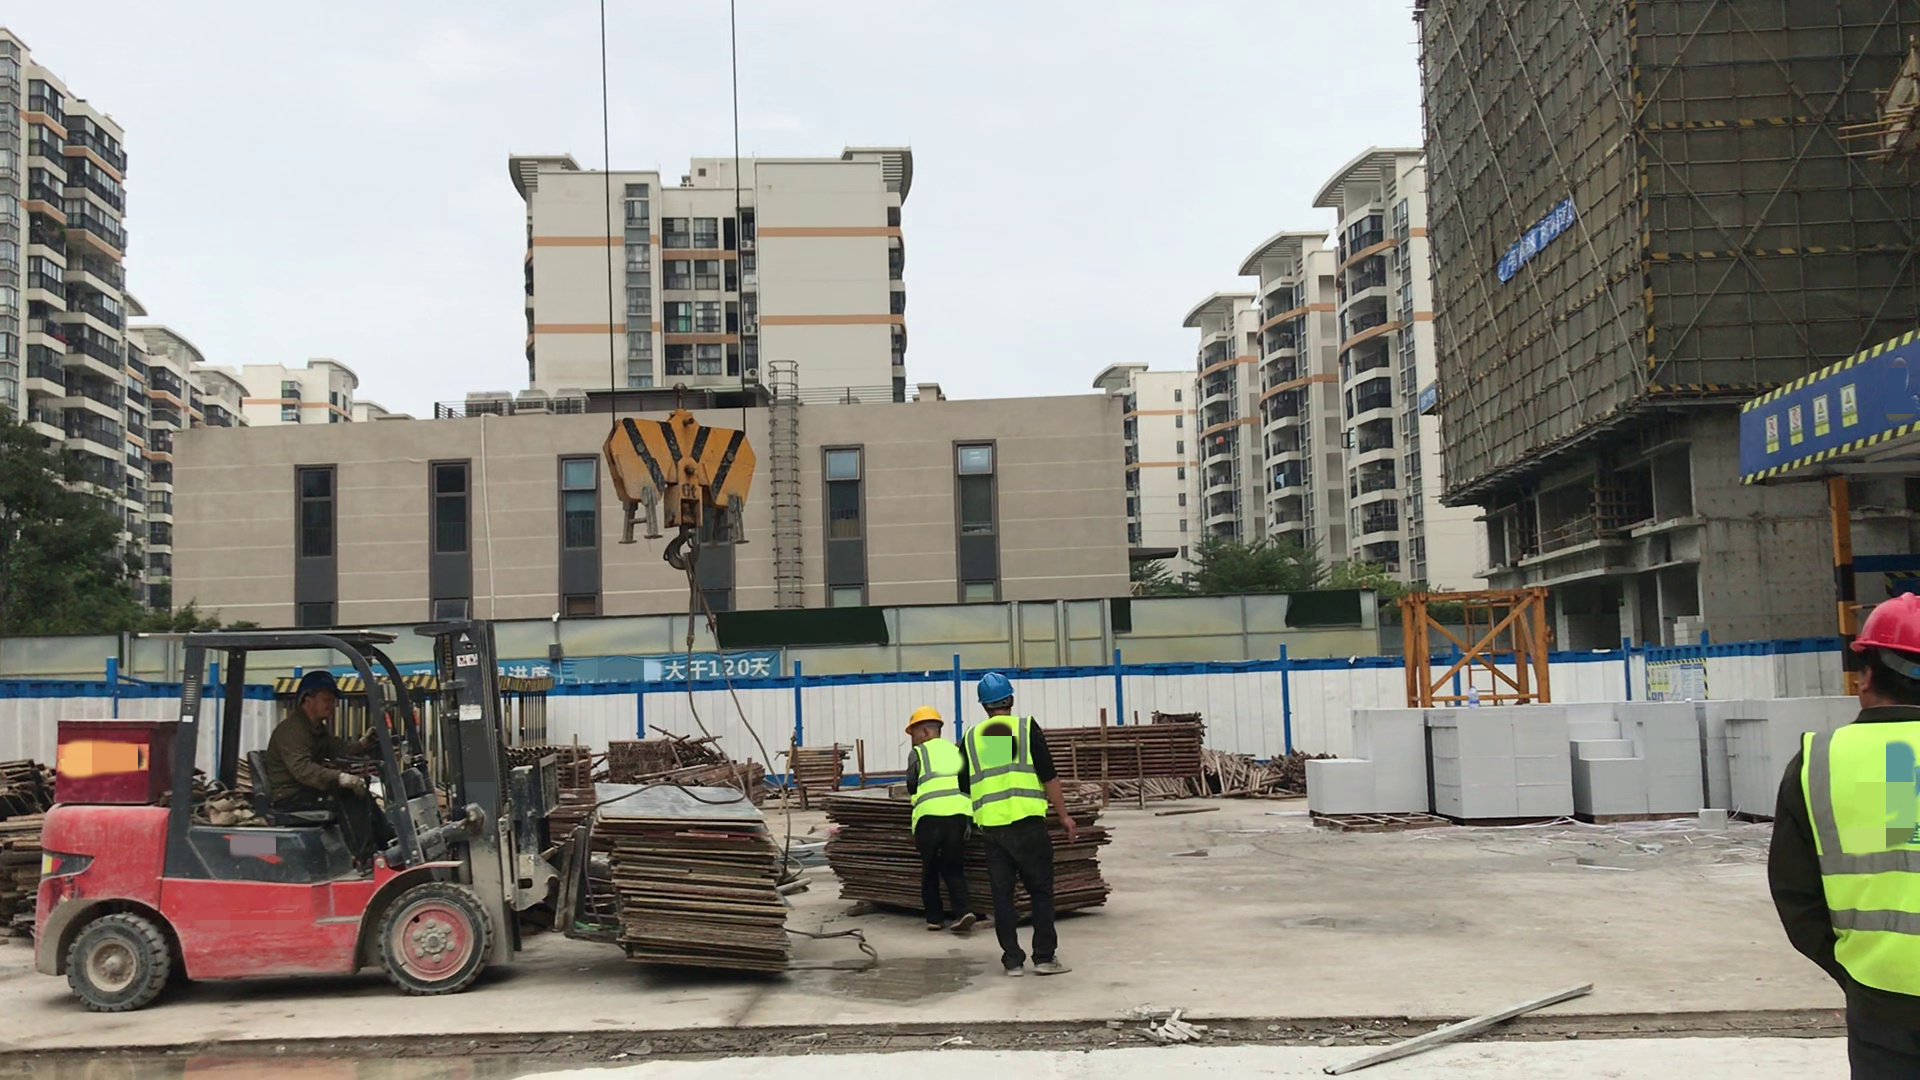board: (798, 759, 1135, 951), (577, 765, 811, 992), (2, 747, 84, 955)
brick: (1292, 681, 1877, 849)
helmet: (1839, 566, 1920, 662), (963, 662, 1024, 716), (290, 661, 347, 700), (896, 706, 950, 742)
hook: (594, 380, 804, 605)
person: (1765, 569, 1920, 1065), (959, 653, 1098, 985), (254, 653, 428, 873), (890, 695, 982, 960)
scaffold: (593, 719, 855, 794), (1037, 719, 1230, 786), (510, 736, 599, 796)
slogan: (1718, 330, 1920, 488), (308, 650, 808, 695), (1475, 197, 1581, 282), (1648, 656, 1714, 702), (1404, 372, 1442, 427)
vest: (1784, 703, 1920, 1012), (966, 709, 1051, 838), (903, 737, 975, 837)
